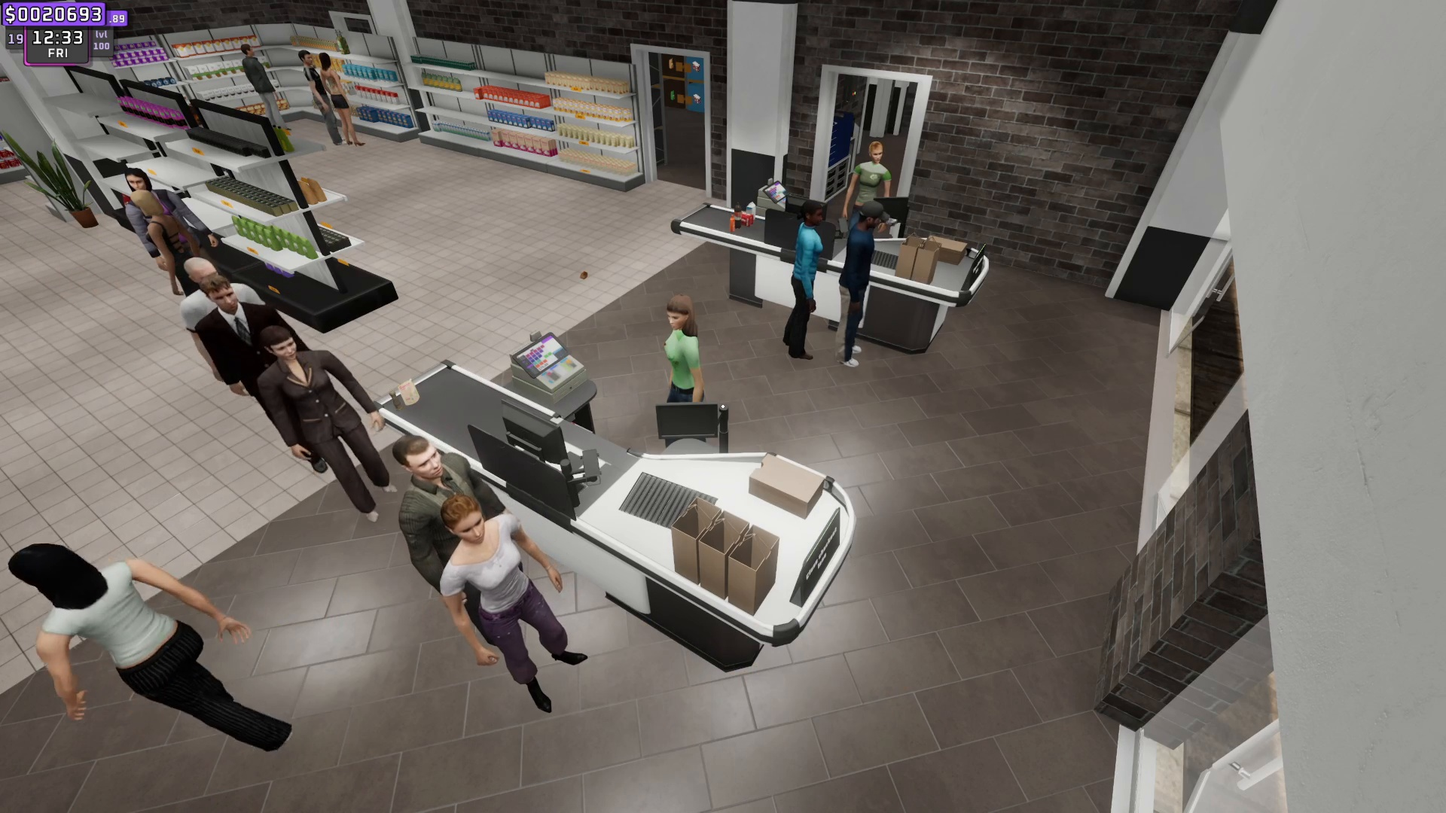Client: (16, 550, 286, 756), (443, 508, 593, 710), (252, 338, 393, 514), (395, 436, 503, 582), (197, 284, 296, 401), (179, 259, 262, 359), (852, 207, 878, 378), (792, 212, 821, 359)
Employee: (663, 304, 712, 404), (847, 134, 891, 207)
